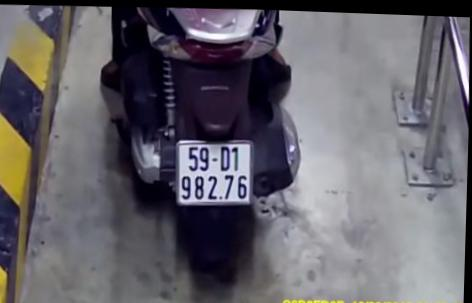LP: (174, 133, 255, 207)
